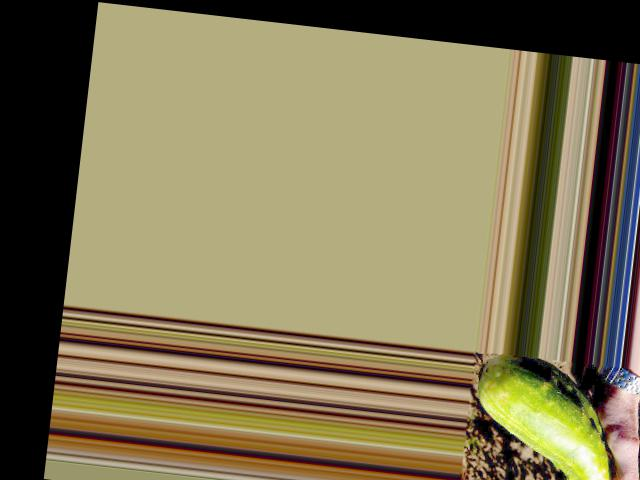cucumber: (464, 350, 639, 480)
